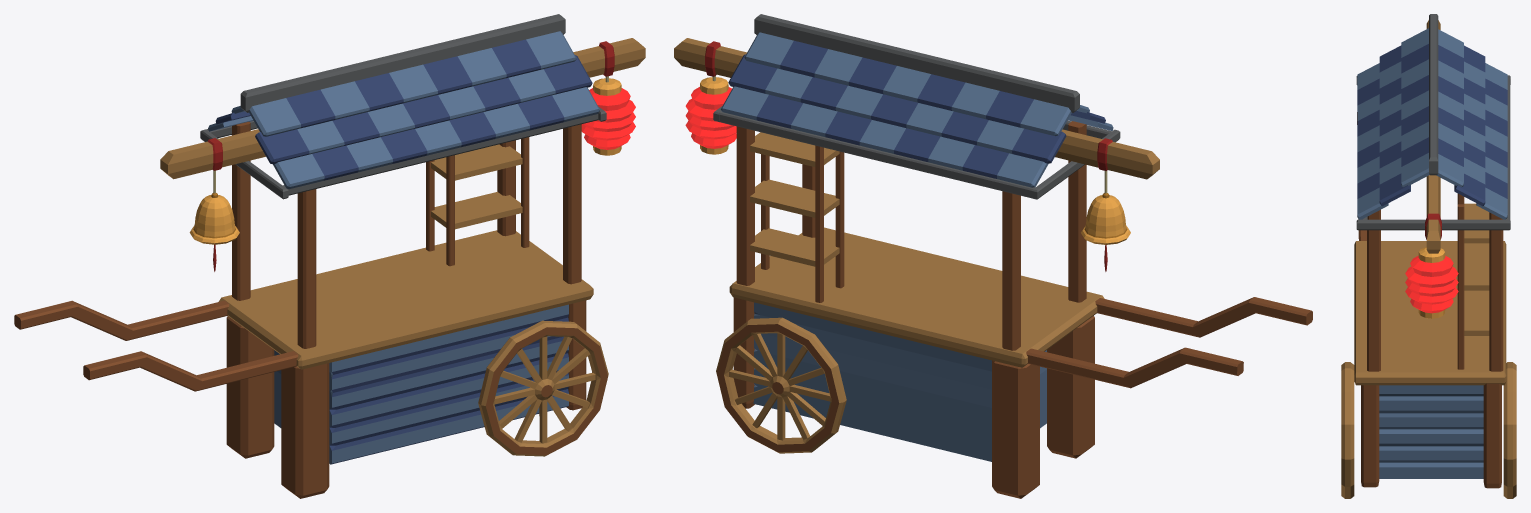
Rendered from noodle cart colouredmerged.fbx.
3 views of the same model, side by side, from view 1: azimuth 30°, elevation 25°; view 2: azimuth 150°, elevation 25°; view 3: azimuth 270°, elevation 25° (orthographic). The views are drawn at different scales.
Parts seen in each view (by area): view 1: Cube.002; view 2: Cube.002; view 3: Cube.002.
Boxes of the visible parts, bbox=[...] form: Cube.002: bbox=[14, 14, 645, 498]; Cube.002: bbox=[674, 14, 1312, 498]; Cube.002: bbox=[1341, 14, 1516, 498].
Bounding box in the file's own units: 425 × 268 × 117.
